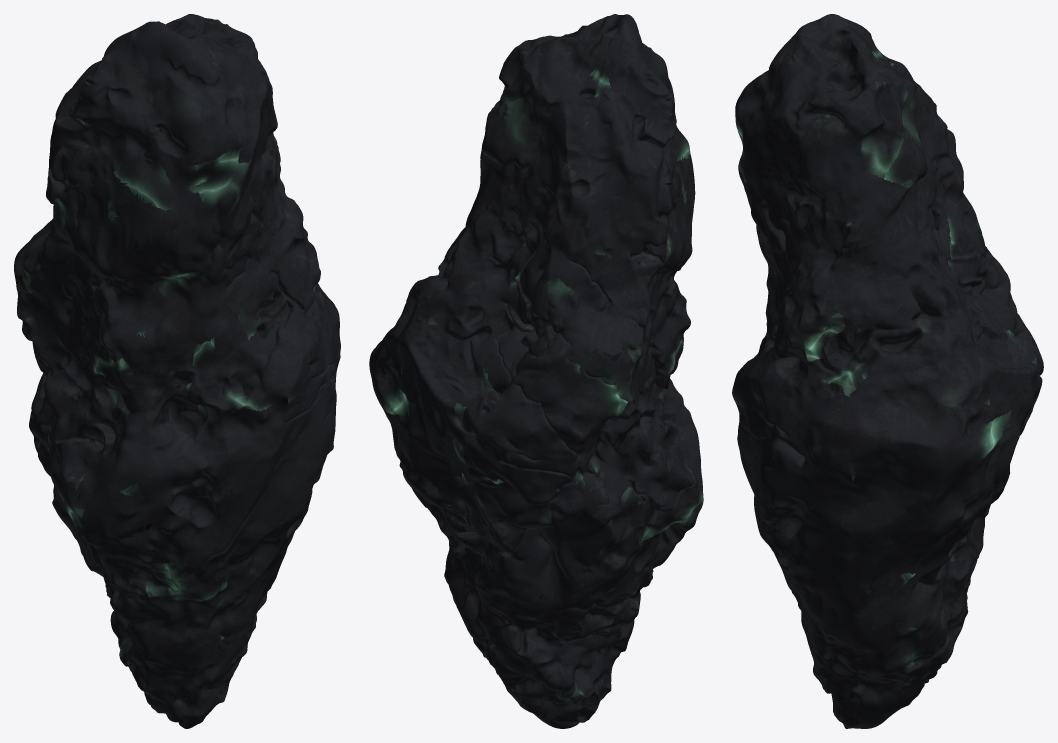
The model's file is shard-03.glb.
3 renders of one model, left to right at view 1: azimuth 30°, elevation 25°; view 2: azimuth 150°, elevation 25°; view 3: azimuth 270°, elevation 25°, orthographic. The views are drawn at different scales.
Parts seen in each view (by area): view 1: Mesh_0; view 2: Mesh_0; view 3: Mesh_0.
Part boxes in pixels (left/top/right/bottom): Mesh_0: left=14, top=14, right=340, bottom=728; Mesh_0: left=369, top=14, right=703, bottom=728; Mesh_0: left=732, top=14, right=1043, bottom=728.
Bounding box in the file's own units: 0.792 × 1.9 × 0.7749.
1 material, 1 textured.
